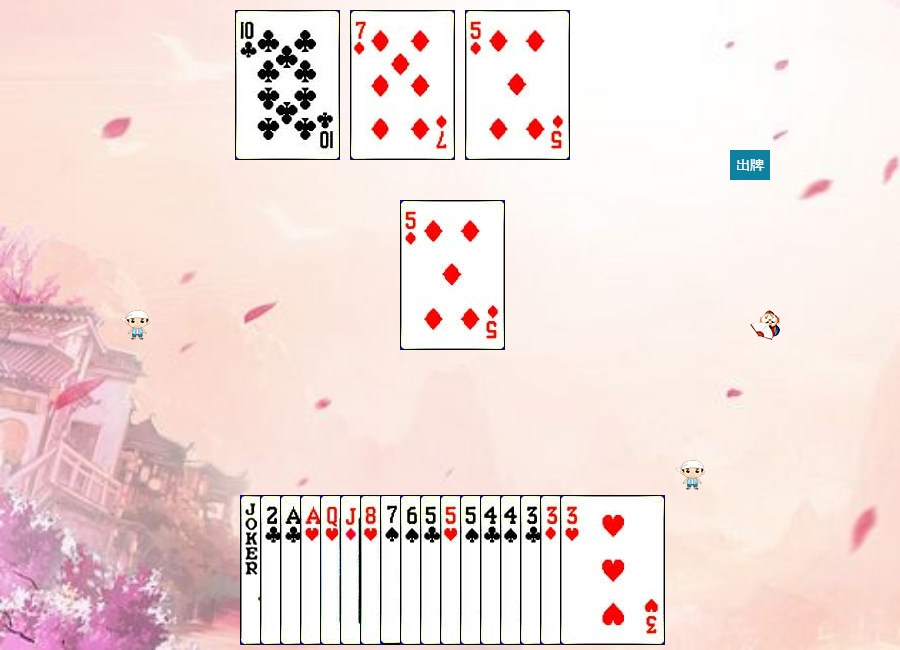10~2: (235, 10, 340, 160)
11~1: (340, 495, 445, 645)
12~3: (320, 495, 425, 645)
14~2: (280, 495, 385, 645)
14~3: (300, 495, 405, 645)
15~2: (260, 495, 365, 645)
17~3: (240, 495, 345, 645)
3~1: (540, 495, 645, 645)
3~2: (520, 495, 625, 645)
3~3: (560, 495, 665, 645)
4~2: (480, 495, 585, 645)
4~4: (500, 495, 605, 645)
5~1: (465, 10, 570, 160), (400, 200, 505, 350)
5~2: (420, 495, 525, 645)
5~3: (440, 495, 545, 645)
5~4: (460, 495, 565, 645)
6~4: (400, 495, 505, 645)
7~1: (350, 10, 455, 160)
7~4: (380, 495, 485, 645)
8~3: (360, 495, 465, 645)
